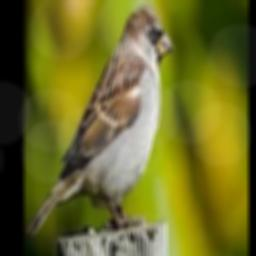Sparrow: (26, 4, 173, 235)
